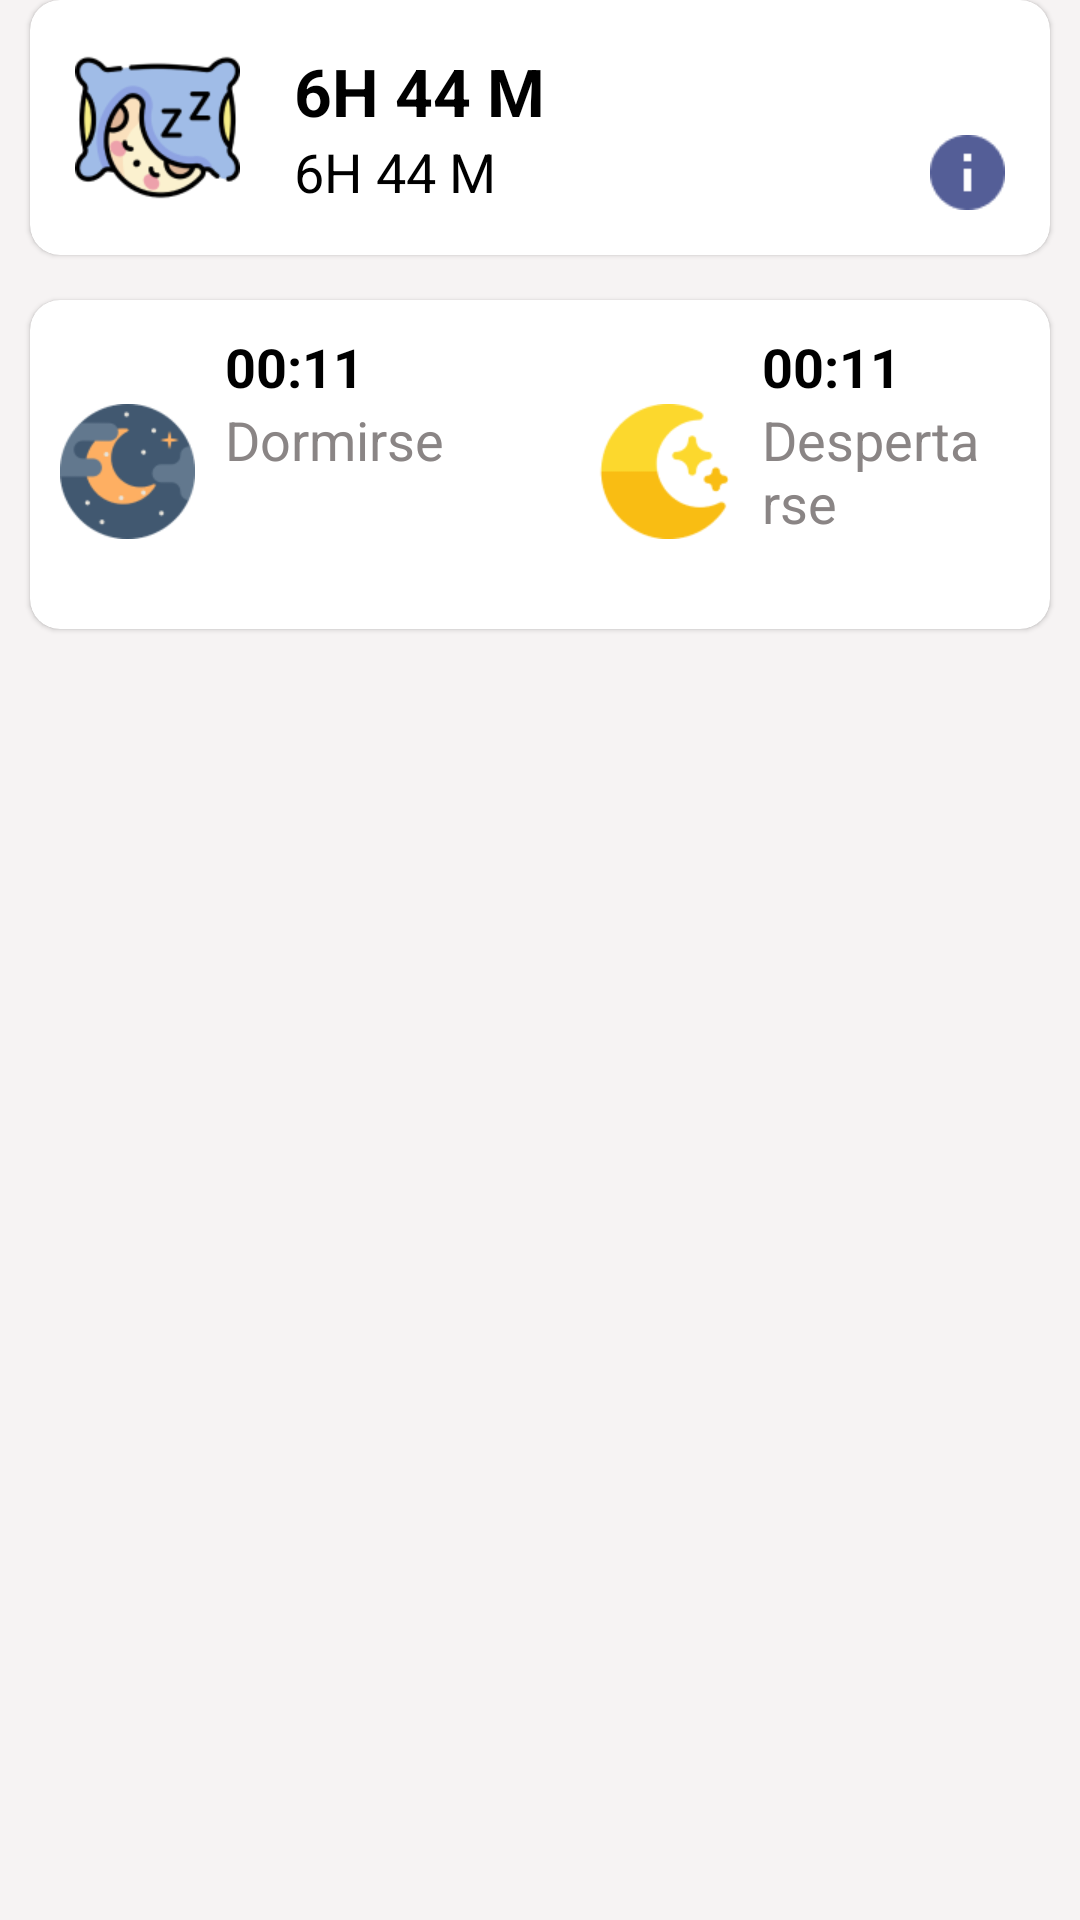

Where icons sit on this 1080*1920 app screen, as [left=x1, top=y1, right=x2, bottom=y2]:
info: [left=930, top=135, right=1005, bottom=210]
sleep bed: [left=60, top=404, right=195, bottom=539]
sleep total: [left=75, top=57, right=240, bottom=198]
